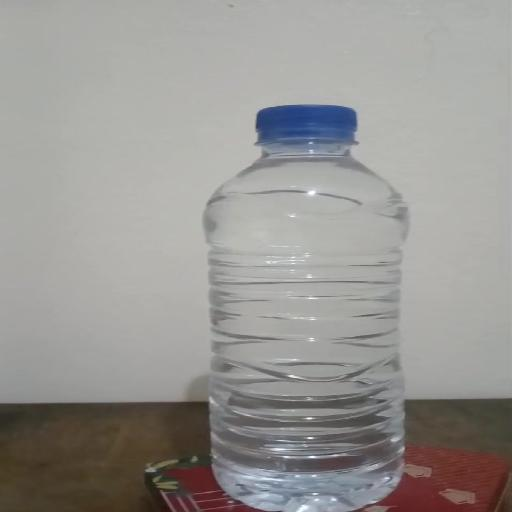bouteille non conformite: (162, 107, 500, 512), (102, 242, 481, 419)
